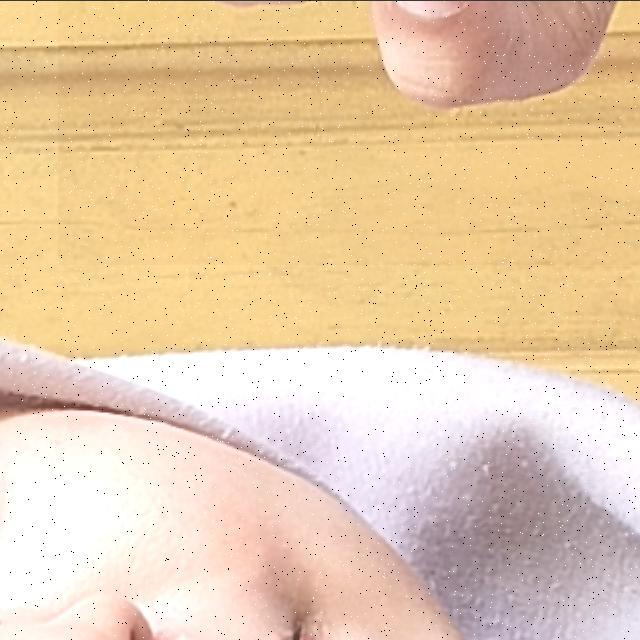baik: (58, 0, 640, 264)
